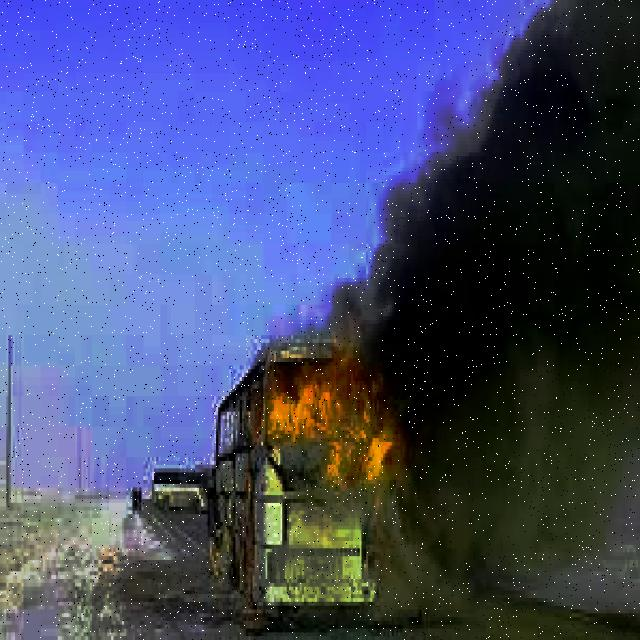api: (256, 333, 418, 489)
